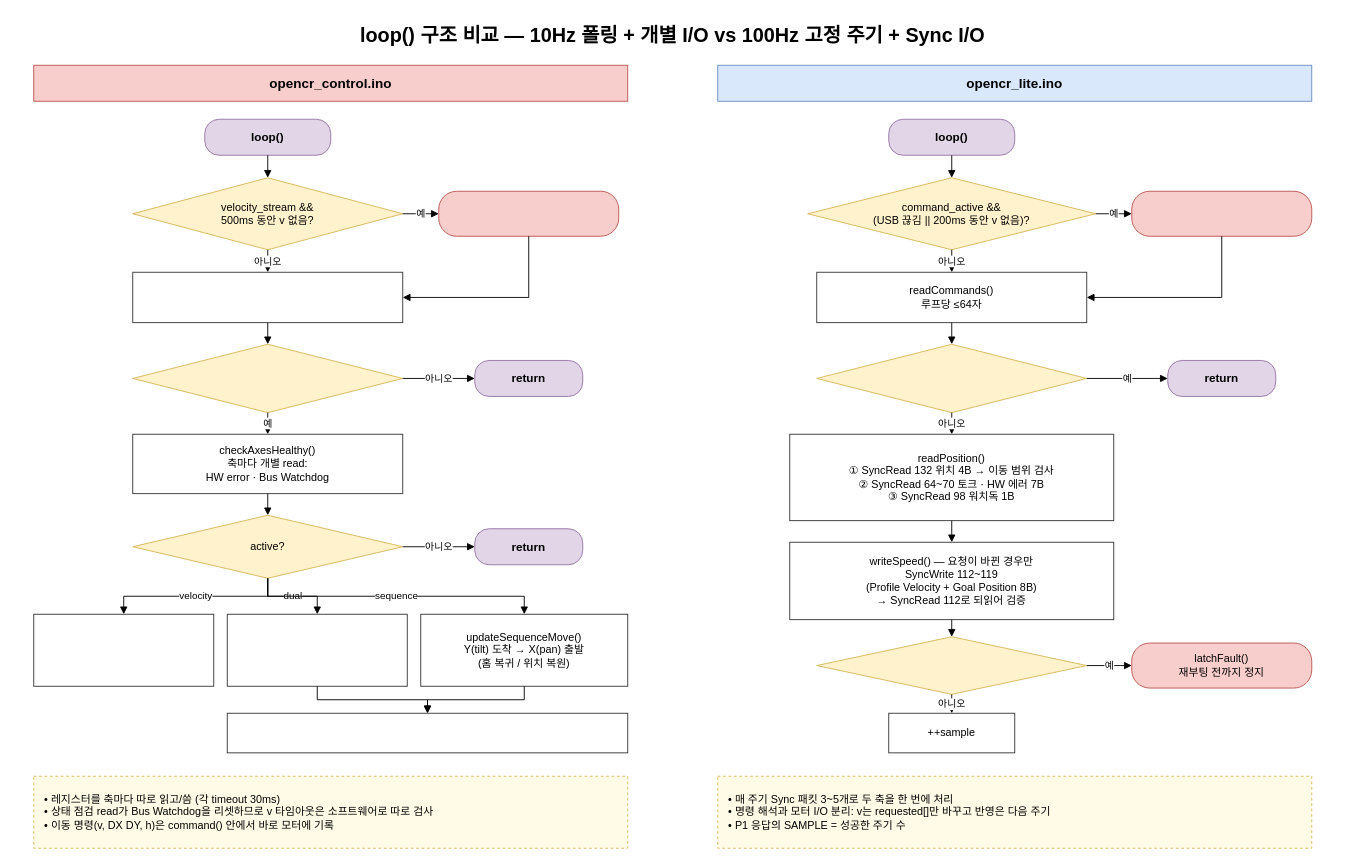
The diagram is 1345 pixels wide and 864 high, and some of its shapes have lost their labels. The centre of each missing label's shape, as x and y in pixels:
faulted || 10ms 미경과?: the point at 951,378
hold() → 정지: the point at 528,213
readSerialInput() 루프당 ≤32자 · 'x'는 즉시 정지: the point at 267,297
stopMotion(): the point at 1221,213
updateDualMove() 두 축 위치·속도 read 5회 연속 도착 판정: the point at 316,649
updateVelocityStream() 위치 read → 이동 범위 검사: the point at 123,649
도착 완료 → savePosition() (EEPROM 기록): the point at 427,732
마지막 점검 후 100ms 경과?: the point at 267,378
실패?: the point at 951,665
